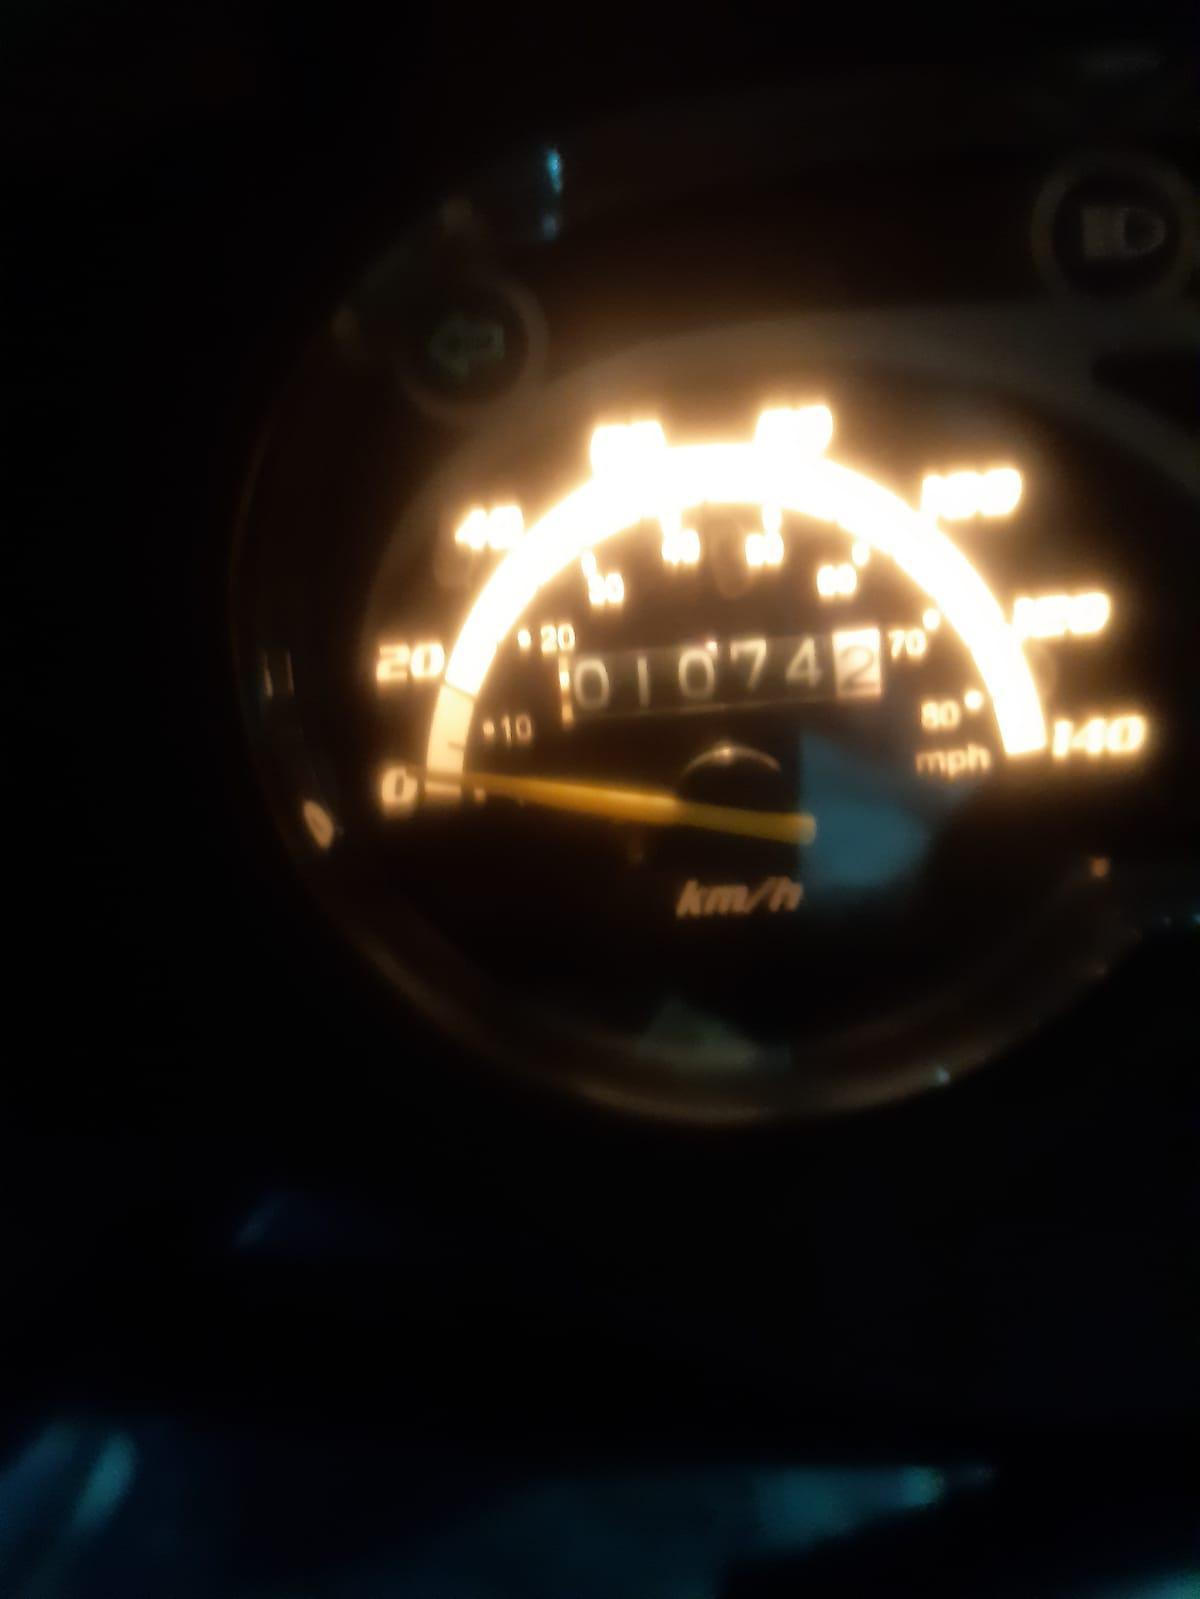0: (568, 656, 616, 714), (676, 646, 718, 706), (557, 621, 575, 651)
1: (632, 646, 661, 721)
2: (838, 638, 881, 704)
4: (782, 633, 823, 693)
7: (725, 635, 775, 696)
odometer: (556, 616, 890, 738)
